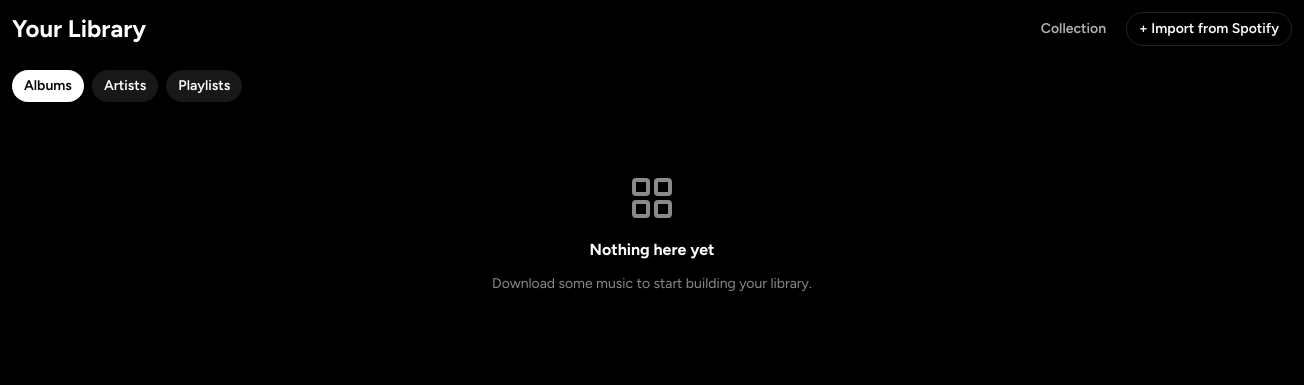
Scenario: Library page › shows the error state when artists fail to load
Click the button "Artists" at (125, 86), box x1=92 y1=70 x2=158 y2=102
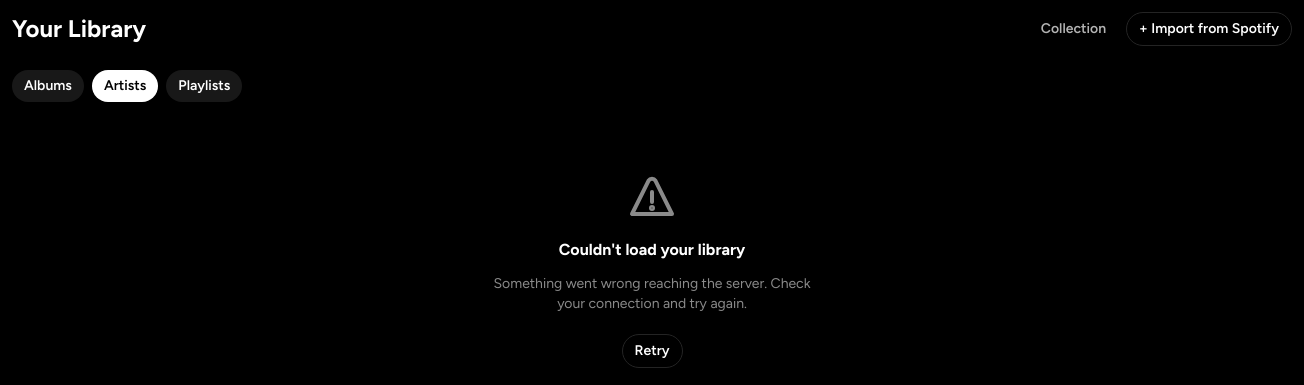
Expected: the text "Couldn't load your library" is shown, x1=559 y1=238 x2=745 y2=262
Expected: the text "Nothing here yet" is gone
